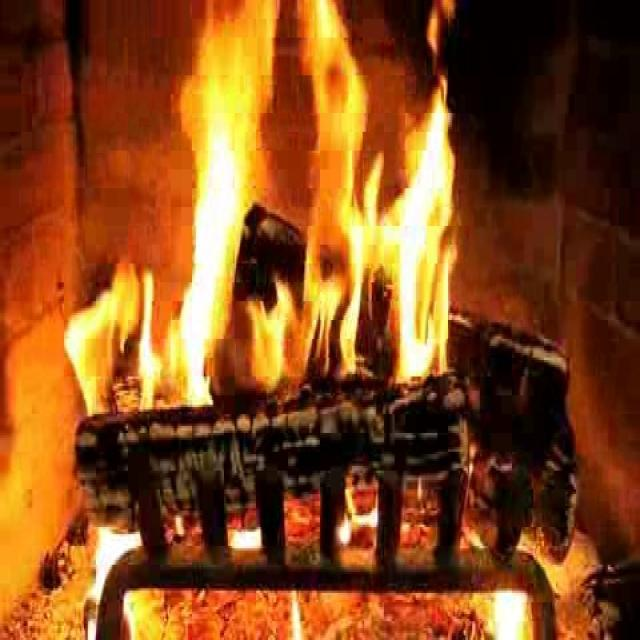Fire: (163, 13, 452, 410)
